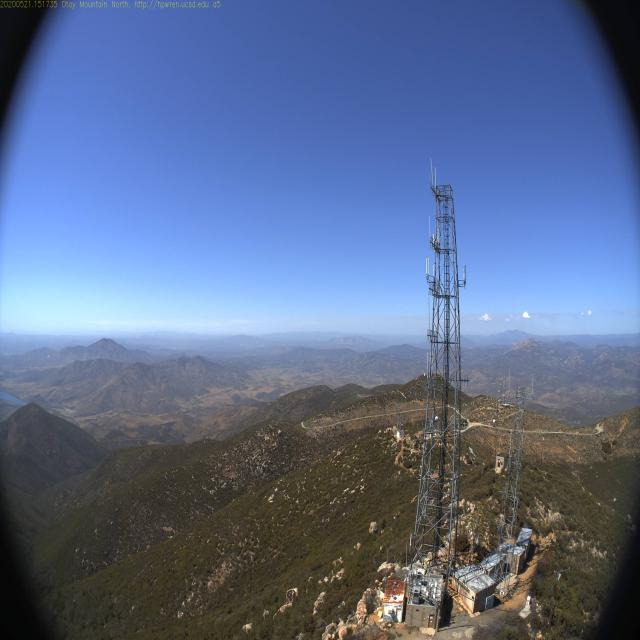smoke: (1, 325, 30, 357)
